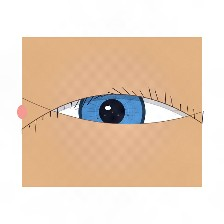pinguecula_lesion: (42, 104, 76, 131)
